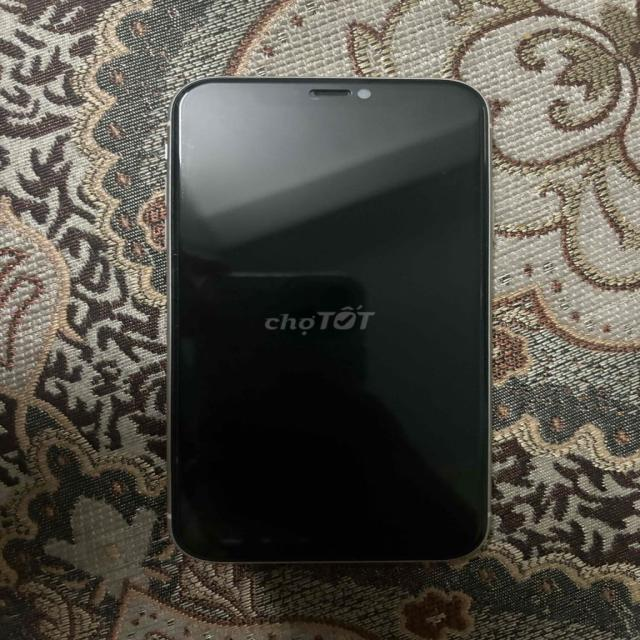gen_11: (164, 69, 497, 567)
